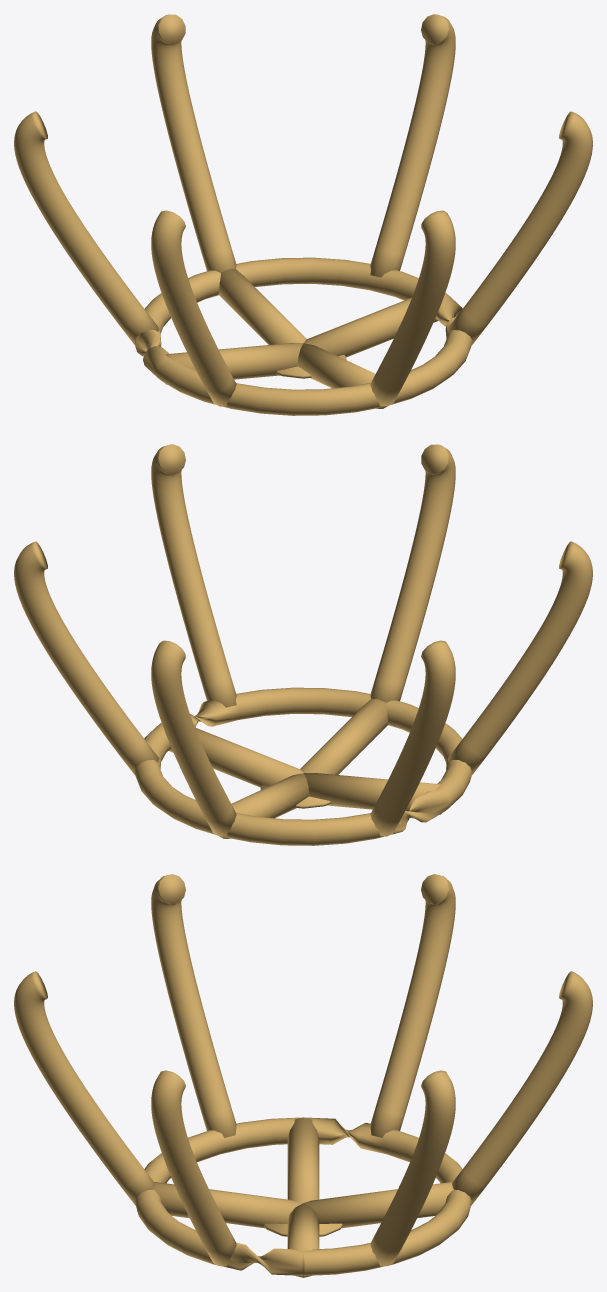
The model's file is demo-round-2-6-prong.glb.
3 views of the same model, one above another, from view 1: azimuth 30°, elevation 25°; view 2: azimuth 150°, elevation 25°; view 3: azimuth 270°, elevation 25° (orthographic).
Visible parts, largest first — view 1: Metal.048, Metal.049, Metal.050, Metal.054, Metal.051, Metal.052, Metal.053, Metal.046, Metal.044, Metal.045, Metal.047; view 2: Metal.048, Metal.054, Metal.053, Metal.049, Metal.052, Metal.051, Metal.050, Metal.047, Metal.044, Metal.045, Metal.046; view 3: Metal.048, Metal.051, Metal.052, Metal.050, Metal.053, Metal.049, Metal.054, Metal.046, Metal.047, Metal.045, Metal.044.
Part boxes in pixels (x1=…): Metal.048: x1=135, y1=257, x2=472, y2=415; Metal.049: x1=370, y1=14, x2=455, y2=277; Metal.050: x1=151, y1=14, x2=236, y2=272; Metal.054: x1=447, y1=111, x2=592, y2=345; Metal.051: x1=14, y1=111, x2=159, y2=345; Metal.052: x1=151, y1=210, x2=236, y2=406; Metal.053: x1=370, y1=210, x2=455, y2=406; Metal.046: x1=218, y1=268, x2=306, y2=344; Metal.044: x1=304, y1=297, x2=438, y2=357; Metal.045: x1=165, y1=343, x2=302, y2=384; Metal.047: x1=297, y1=343, x2=387, y2=408; Metal.048: x1=134, y1=687, x2=471, y2=845; Metal.054: x1=151, y1=444, x2=236, y2=707; Metal.053: x1=370, y1=444, x2=455, y2=702; Metal.049: x1=14, y1=541, x2=159, y2=775; Metal.052: x1=447, y1=541, x2=592, y2=775; Metal.051: x1=370, y1=640, x2=455, y2=836; Metal.050: x1=151, y1=640, x2=236, y2=836; Metal.047: x1=300, y1=698, x2=388, y2=774; Metal.044: x1=168, y1=727, x2=302, y2=787; Metal.045: x1=304, y1=773, x2=441, y2=814; Metal.046: x1=219, y1=773, x2=309, y2=838; Metal.048: x1=135, y1=1117, x2=471, y2=1275; Metal.051: x1=370, y1=874, x2=455, y2=1137; Metal.052: x1=151, y1=874, x2=236, y2=1137; Metal.050: x1=452, y1=971, x2=592, y2=1205; Metal.053: x1=14, y1=971, x2=154, y2=1205; Metal.049: x1=370, y1=1070, x2=455, y2=1266; Metal.054: x1=151, y1=1070, x2=236, y2=1266; Metal.046: x1=304, y1=1181, x2=453, y2=1228; Metal.047: x1=153, y1=1181, x2=302, y2=1228; Metal.045: x1=287, y1=1117, x2=319, y2=1202; Metal.044: x1=287, y1=1203, x2=319, y2=1277.
Bounding box in the file's own units: 7.68 × 4.34 × 8.8.
